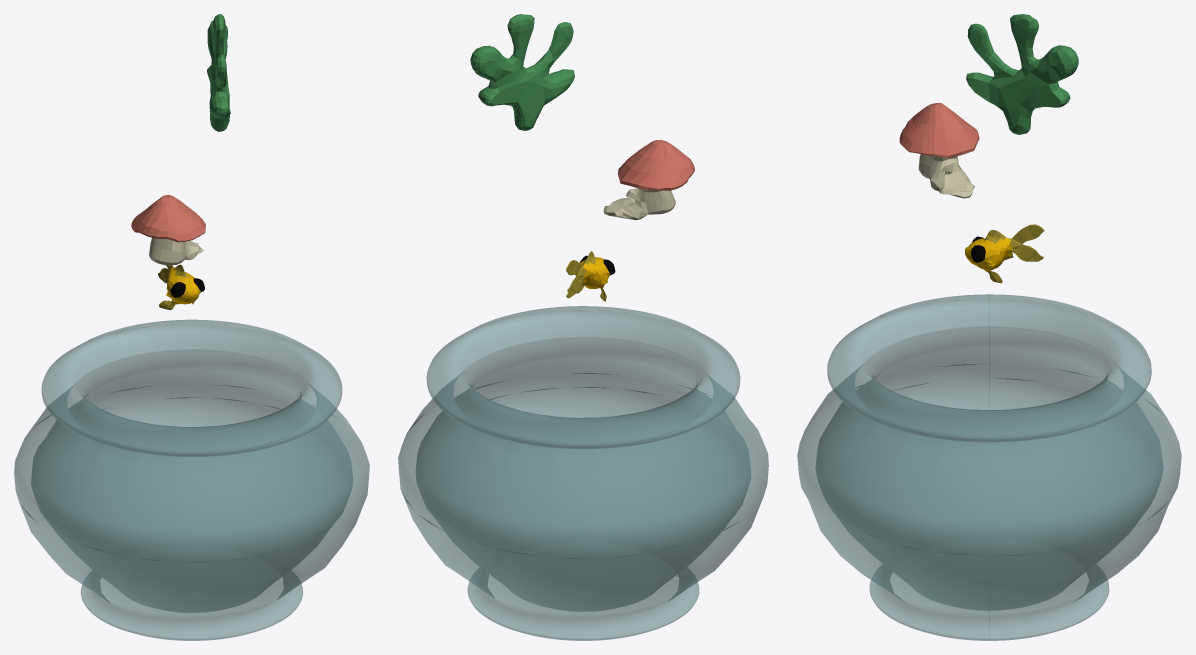
The model's file is GoldfishAndBowlAccessories.fbx.
The picture shows the model from 3 angles, left to right: view 1: azimuth 30°, elevation 25°; view 2: azimuth 150°, elevation 25°; view 3: azimuth 270°, elevation 25°; orthographic projection. The views are drawn at different scales.
Visible parts, largest first — view 1: revolvedSurface1, MushroomCastle, Coral1, GOldFish; view 2: revolvedSurface1, Coral1, MushroomCastle, GOldFish; view 3: revolvedSurface1, Coral1, MushroomCastle, GOldFish.
Boxes of the visible parts, x1,y1,x2,y2 form: revolvedSurface1: (14, 319, 369, 640); MushroomCastle: (131, 195, 205, 265); Coral1: (207, 14, 230, 131); GOldFish: (158, 264, 204, 309); revolvedSurface1: (398, 306, 768, 640); Coral1: (470, 14, 574, 130); MushroomCastle: (603, 140, 694, 220); GOldFish: (566, 251, 615, 301); revolvedSurface1: (797, 294, 1181, 640); Coral1: (966, 14, 1078, 134); MushroomCastle: (899, 102, 979, 198); GOldFish: (965, 224, 1044, 283).
Size of the model in its own units: 17.72 by 30.93 by 17.73.
